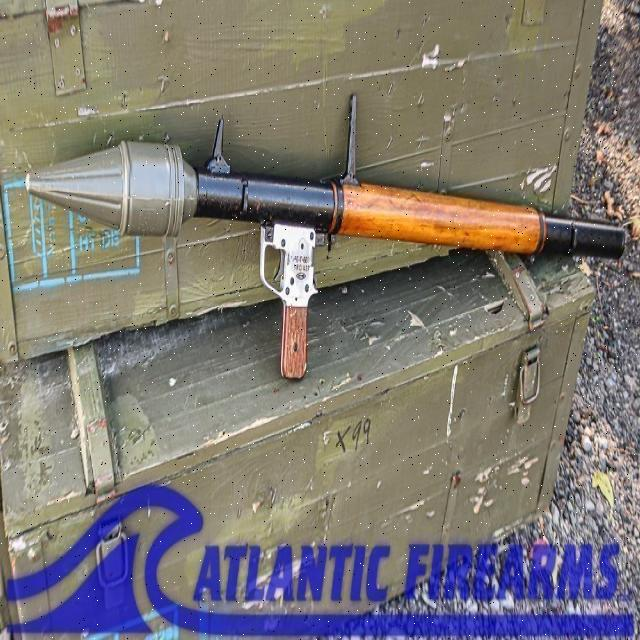bazooka: (40, 105, 620, 342)
